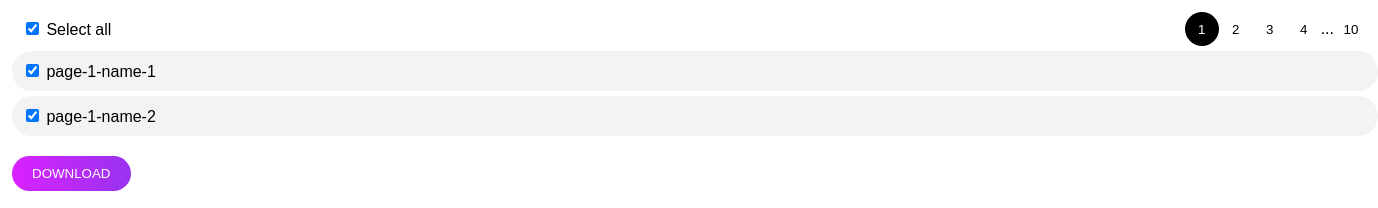
Test: DownloadSelectableList.vue › can deselect all items on current page
Note: deselect only the first one
Click the checkbox next to "page-1-name-1" at x=32, y=70, box x1=26 y1=64 x2=39 y2=77
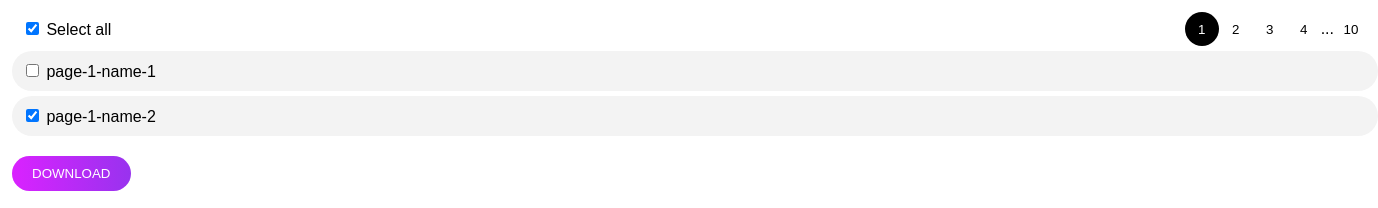
Check: the checkbox next to "page-1-name-2" is checked, box x1=26 y1=109 x2=39 y2=122
Check: the checkbox next to "page-1-name-1" is not checked, box x1=26 y1=64 x2=39 y2=77
Note: deselect all
Click the checkbox next to "Select all" at x=32, y=28, box x1=26 y1=22 x2=39 y2=35
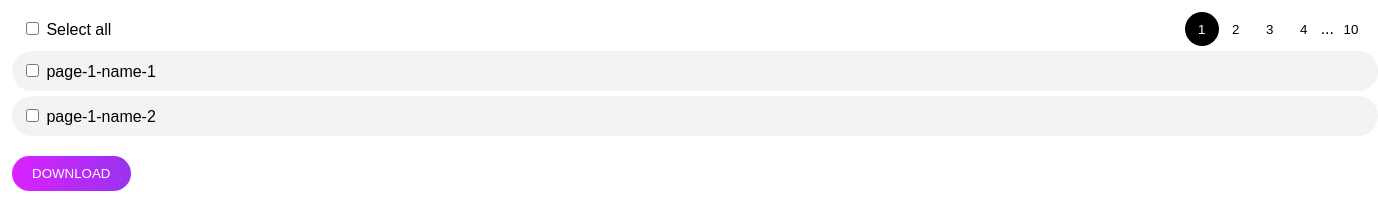
Check: the checkbox next to "page-1-name-1" is not checked, box x1=26 y1=64 x2=39 y2=77
Check: the checkbox next to "page-1-name-2" is not checked, box x1=26 y1=109 x2=39 y2=122
